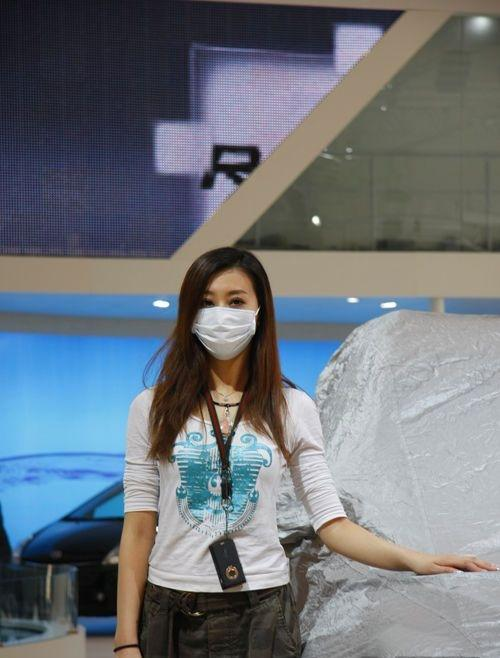OK: (192, 286, 264, 358)
